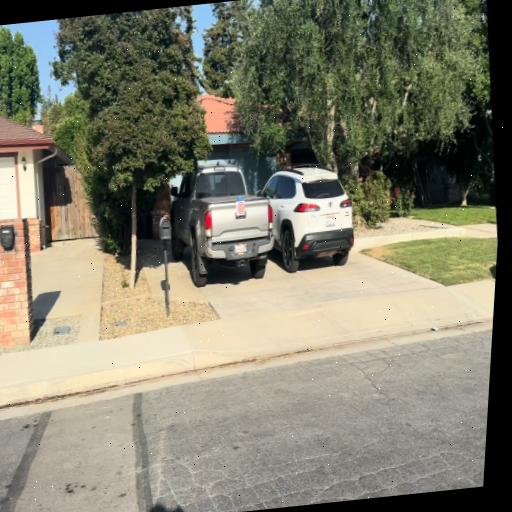bullseye: (237, 201, 245, 215)
